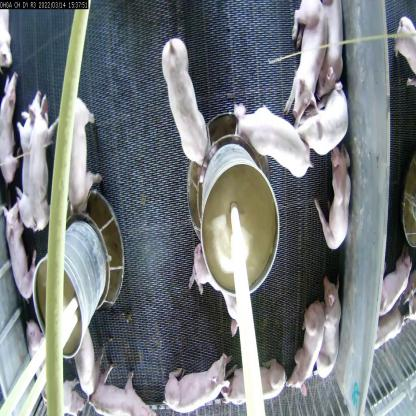Pig: (163, 36, 214, 169), (240, 99, 309, 181), (59, 91, 101, 221), (23, 96, 62, 231), (153, 344, 226, 415), (186, 248, 247, 329), (316, 281, 352, 385), (289, 1, 323, 111), (288, 310, 326, 396), (224, 351, 285, 404), (24, 327, 60, 416), (321, 154, 354, 250), (93, 362, 150, 415), (67, 323, 102, 408), (12, 116, 43, 210), (0, 212, 34, 297), (298, 99, 345, 158), (0, 67, 22, 185)
